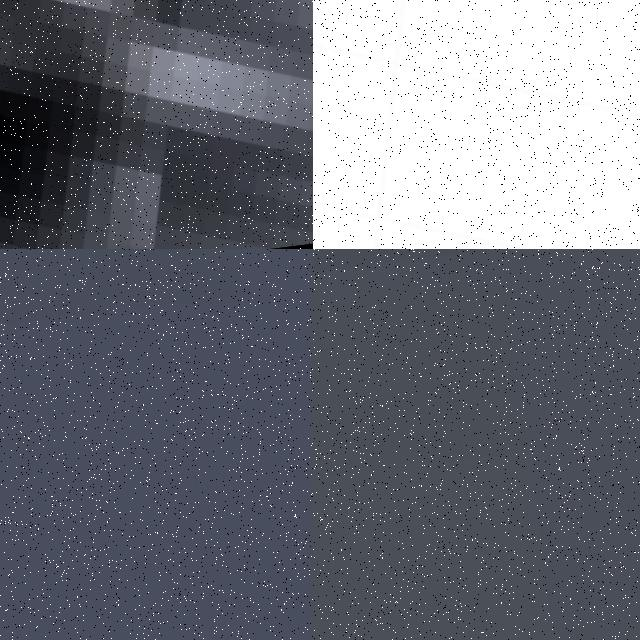0: (0, 0, 313, 249)
drone: (313, 0, 640, 249)
